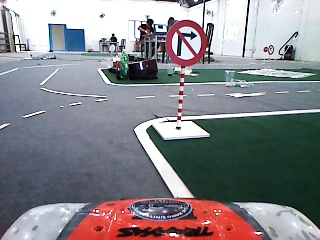ban: (162, 15, 209, 69)
